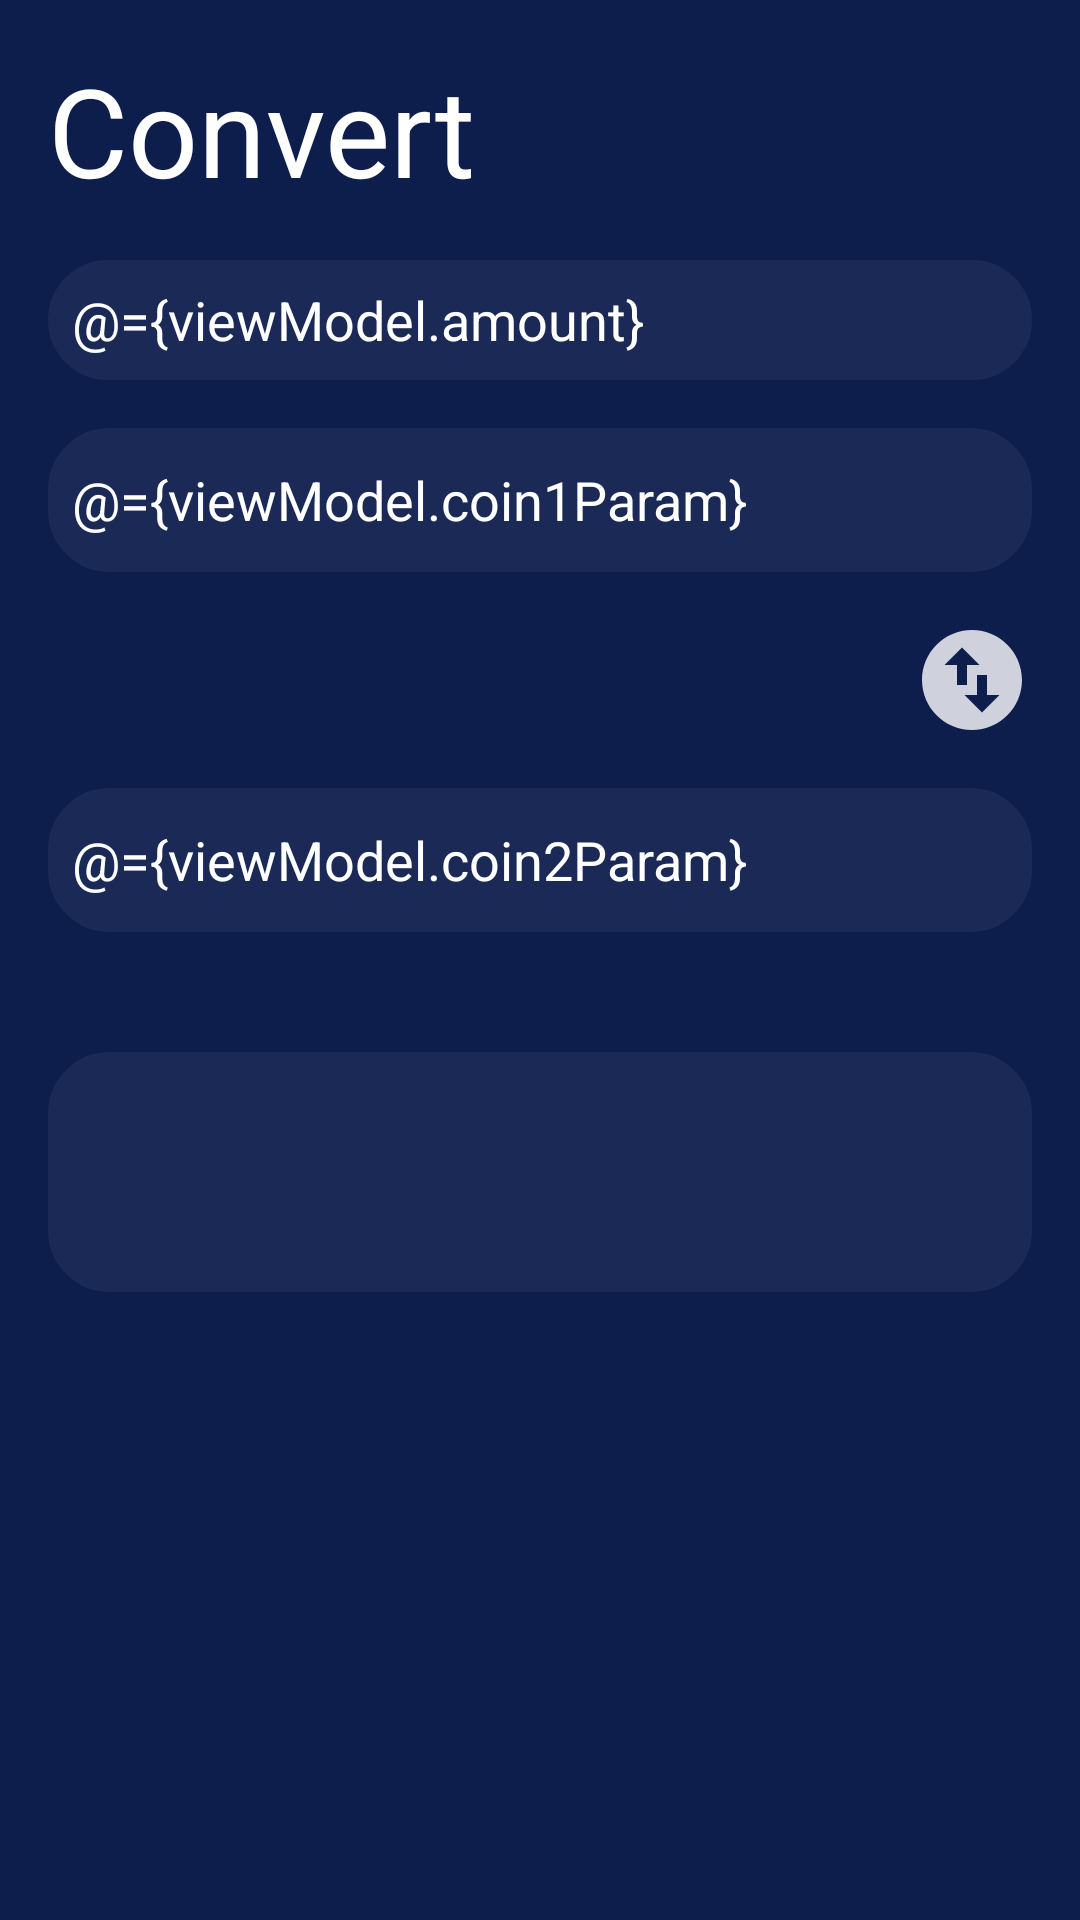

Icons on this 1080x1920 Android screen, each with the point to tap as (x,y):
swap vertical circle: (972,680)
